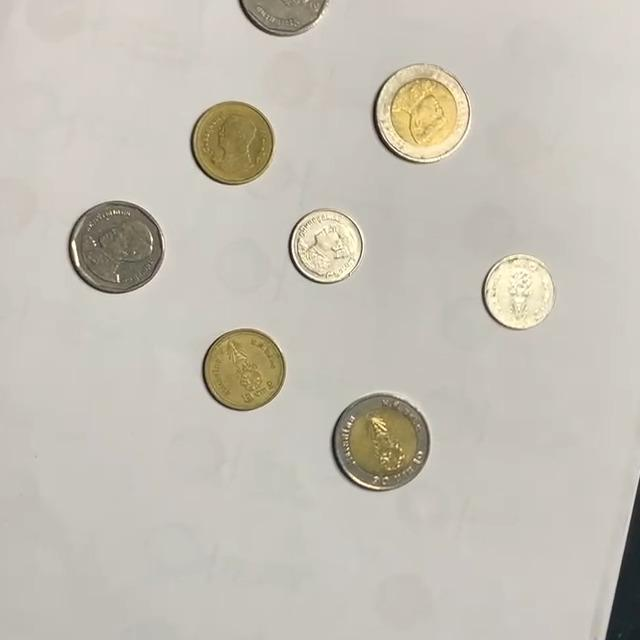1-baht: (290, 209, 366, 285), (483, 253, 558, 329)
10-baht: (333, 393, 432, 491), (374, 64, 472, 163)
2-baht: (191, 100, 276, 185), (203, 329, 287, 411)
5-baht: (68, 200, 166, 294), (237, 0, 332, 37)
